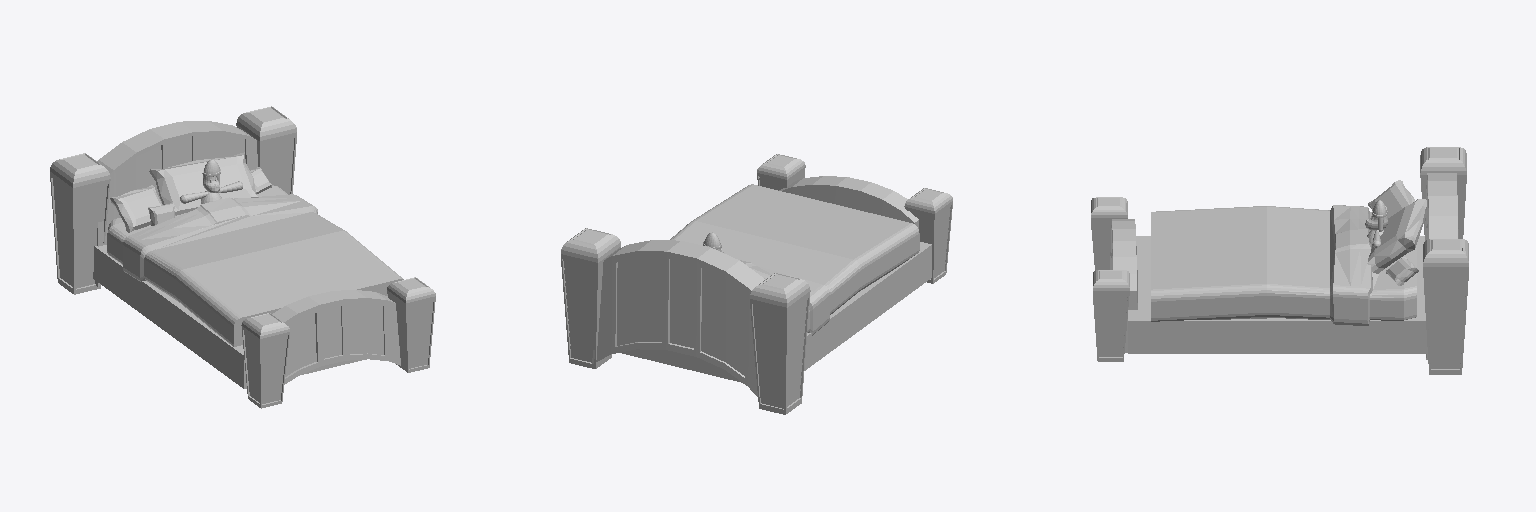
File: bed1.obj
The picture shows the model from 3 angles: view 1: azimuth 30°, elevation 25°; view 2: azimuth 150°, elevation 25°; view 3: azimuth 270°, elevation 25°; orthographic projection.
Parts seen in each view (by area): view 1: pasted__polySurface1; view 2: pasted__polySurface1; view 3: pasted__polySurface1.
Part boxes in pixels (x1,y1,x2,y2): pasted__polySurface1: (50, 106, 435, 408); pasted__polySurface1: (561, 154, 952, 414); pasted__polySurface1: (1091, 147, 1468, 374).
Size of the model in its own units: 2.34 by 1.33 by 3.41.